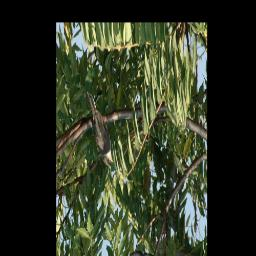Cuckoo: (85, 89, 115, 167)
